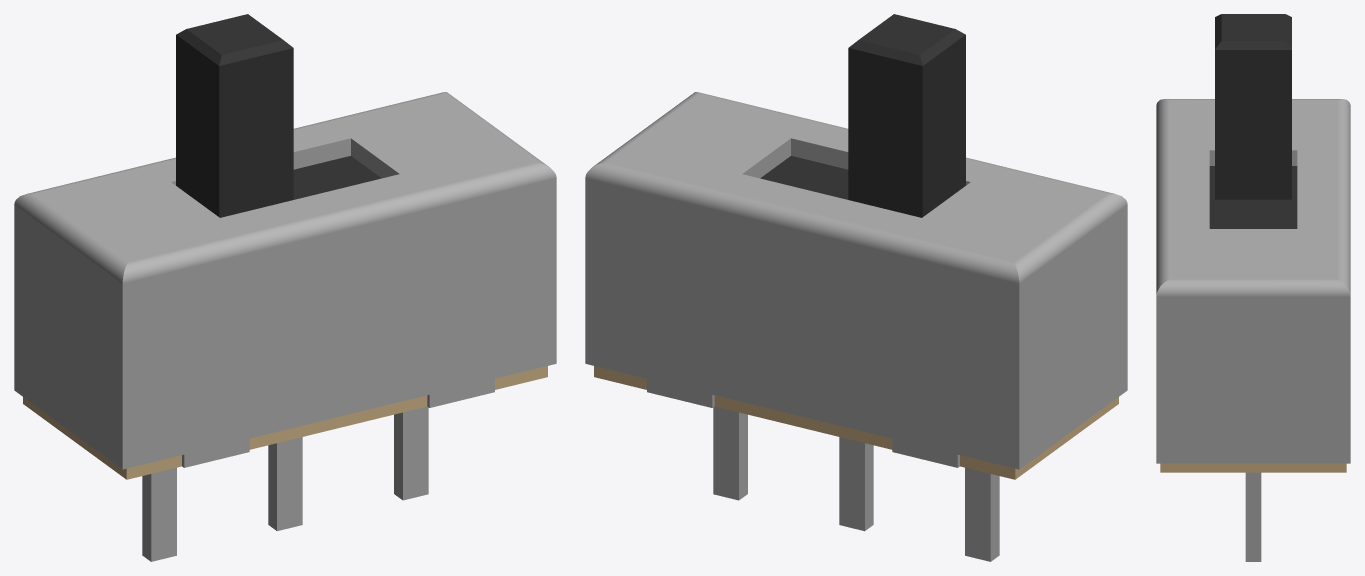
Rendered from Selector Switch - SS12D00.obj.
The picture shows the model from 3 angles, left to right: view 1: azimuth 30°, elevation 25°; view 2: azimuth 150°, elevation 25°; view 3: azimuth 270°, elevation 25°; orthographic projection. The views are drawn at different scales.
Visible parts, largest first — view 1: Solid1; view 2: Solid1; view 3: Solid1.
Part boxes in pixels (x1,y1,x2,y2): Solid1: (14,14,556,561); Solid1: (585,14,1127,561); Solid1: (1156,14,1350,561).
Size of the model in its own units: 8.59 by 9.5 by 3.71.
